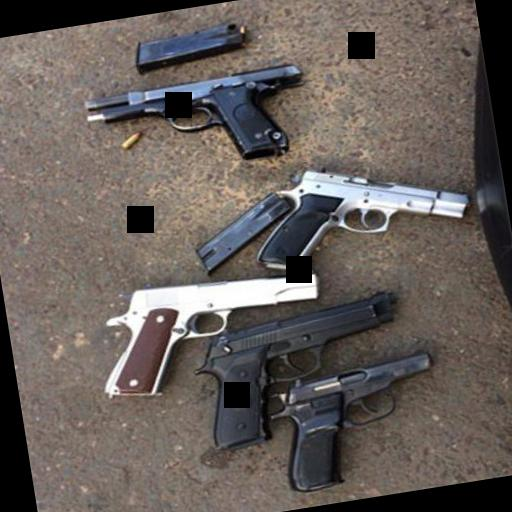Handgun: (178, 287, 413, 451), (84, 261, 336, 405), (236, 140, 478, 273), (76, 57, 316, 188), (260, 348, 450, 494)
